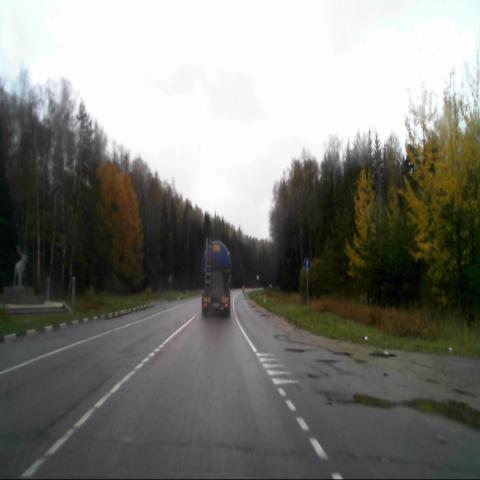4_1_1: (302, 255, 312, 271)
